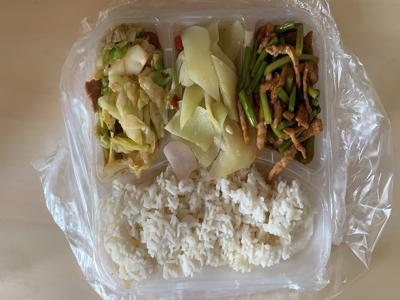csp: (171, 21, 249, 174)
rice: (107, 173, 321, 283)
st: (251, 21, 324, 166)
